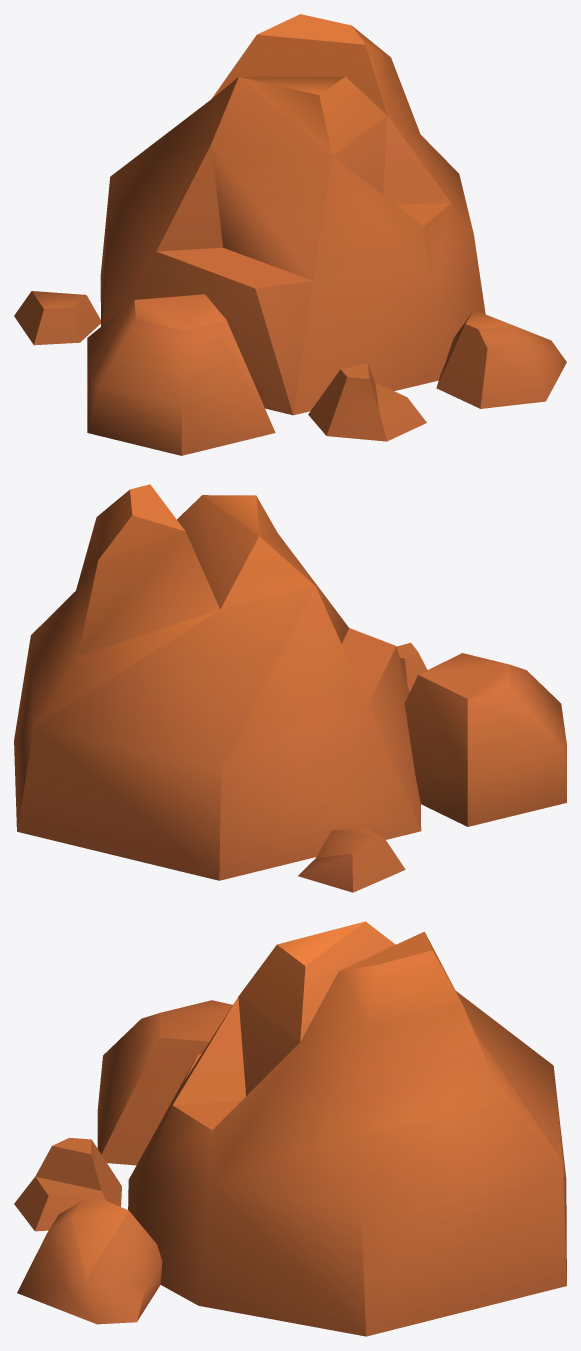
Rendered from rocks-b.glb.
The picture shows the model from 3 angles, top to bottom: view 1: azimuth 30°, elevation 25°; view 2: azimuth 150°, elevation 25°; view 3: azimuth 270°, elevation 25°; orthographic projection. The views are drawn at different scales.
Visible parts, largest first — view 1: rocks_B; view 2: rocks_B; view 3: rocks_B.
Boxes of the visible parts, x1,y1,x2,y2 form: rocks_B: (14,14,566,455); rocks_B: (14,484,566,892); rocks_B: (14,921,566,1336).
Size of the model in its own units: 1.88 by 1.07 by 1.74.
1 material, 1 textured.
